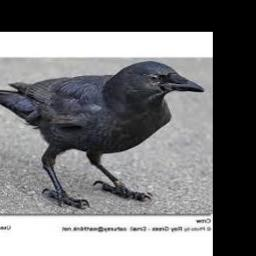Crow: (0, 61, 205, 208)
